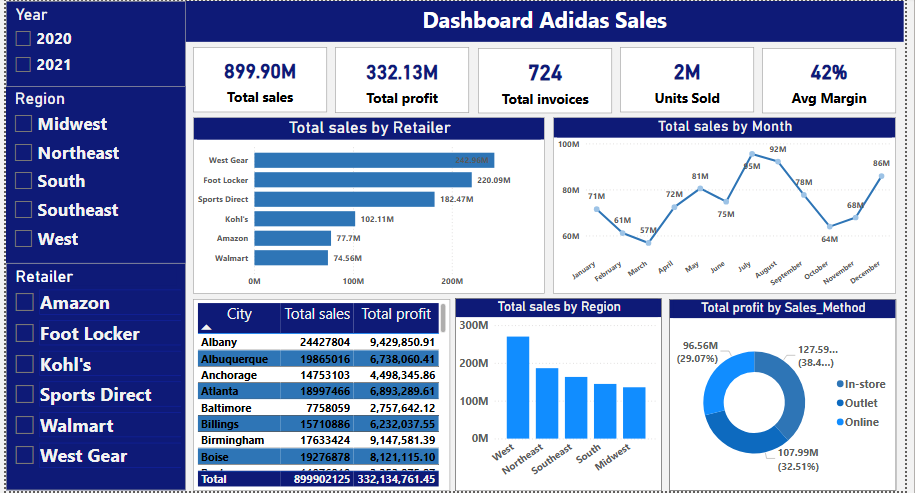

The page's visual inventory and layout, read from the dashboard file:
{"tool":"powerbi","page":{"name":"Page 1","canvas":[1320,720],"ordinal":0},"visuals":[{"type":"textbox","box":[263,0,1056.5,60.2],"z":0},{"type":"card","fields":{"Values":["Data_Sales_Adidas.Total sales"]},"box":[274.8,67.6,196.9,95.5],"z":1000},{"type":"card","fields":{"Values":["Data_Sales_Adidas.Total profit"]},"box":[483.8,67.6,196.9,97],"z":2000},{"type":"card","fields":{"Values":["Data_Sales_Adidas.Units Sold"]},"box":[901.8,67.6,196.9,95.5],"z":3000},{"type":"card","fields":{"Values":["Data_Sales_Adidas.Total invoices"]},"box":[692.8,69.1,196.9,95.5],"z":4000},{"type":"card","fields":{"Values":["Data_Sales_Adidas.Avg Margin"]},"box":[1110.9,69.1,196.9,95.5],"z":5000},{"type":"barChart","fields":{"Category":["Data_Sales_Adidas.Retailer"],"Y":["Data_Sales_Adidas.Total sales"]},"box":[274.8,170.4,517.2,260.1],"z":6000},{"type":"lineChart","fields":{"Category":["Data_Sales_Adidas.Invoice_Data.Variation.Date Hierarchy.Month"],"Y":["Data_Sales_Adidas.Total sales"]},"box":[803.8,170.4,504,260.1],"z":7000},{"type":"donutChart","fields":{"Category":["Data_Sales_Adidas.Sales_Method"],"Y":["Data_Sales_Adidas.Total profit"]},"box":[974.2,437.9,333.6,282.1],"z":8000},{"type":"columnChart","fields":{"Category":["Data_Sales_Adidas.Region"],"Y":["Data_Sales_Adidas.Total sales"]},"box":[659.8,436.4,304.2,283.6],"z":9000},{"type":"tableEx","fields":{"Values":["Data_Sales_Adidas.City","Data_Sales_Adidas.Total sales","Data_Sales_Adidas.Total profit"]},"box":[274.8,437.9,377.6,282.1],"z":10000},{"type":"slicer","fields":{"Values":["Data_Sales_Adidas.Region"]},"box":[0,125.5,263.6,260.1],"z":11000},{"type":"slicer","fields":{"Values":["Data_Sales_Adidas.Retailer"]},"box":[0,385.6,263.6,333.6],"z":12000},{"type":"slicer","fields":{"Values":["Data_Sales_Adidas.Invoice_Data.Variation.Date Hierarchy.Year"]},"box":[0,0,263.6,125.5],"z":13000}]}

Visuals, with their boxes in screenshot pixels (x1, y1, x2, y2), scaled from the page's 1320x720 canvas onto the 915x493 screenshot:
textbox: [x1=182, y1=0, x2=914, y2=41]
card - Data_Sales_Adidas.Total sales: [x1=190, y1=46, x2=327, y2=112]
card - Data_Sales_Adidas.Total profit: [x1=335, y1=46, x2=472, y2=113]
card - Data_Sales_Adidas.Units Sold: [x1=625, y1=46, x2=762, y2=112]
card - Data_Sales_Adidas.Total invoices: [x1=480, y1=47, x2=617, y2=113]
card - Data_Sales_Adidas.Avg Margin: [x1=770, y1=47, x2=907, y2=113]
barChart - Data_Sales_Adidas.Retailer x Data_Sales_Adidas.Total sales: [x1=190, y1=117, x2=549, y2=295]
lineChart - Data_Sales_Adidas.Invoice_Data.Variation.Date Hierarchy.Month x Data_Sales_Adidas.Total sales: [x1=557, y1=117, x2=907, y2=295]
donutChart - Data_Sales_Adidas.Sales_Method x Data_Sales_Adidas.Total profit: [x1=675, y1=300, x2=907, y2=492]
columnChart - Data_Sales_Adidas.Region x Data_Sales_Adidas.Total sales: [x1=457, y1=299, x2=668, y2=492]
tableEx - Data_Sales_Adidas.City x Data_Sales_Adidas.Total sales: [x1=190, y1=300, x2=452, y2=492]
slicer - Data_Sales_Adidas.Region: [x1=0, y1=86, x2=183, y2=264]
slicer - Data_Sales_Adidas.Retailer: [x1=0, y1=264, x2=183, y2=492]
slicer - Data_Sales_Adidas.Invoice_Data.Variation.Date Hierarchy.Year: [x1=0, y1=0, x2=183, y2=86]
